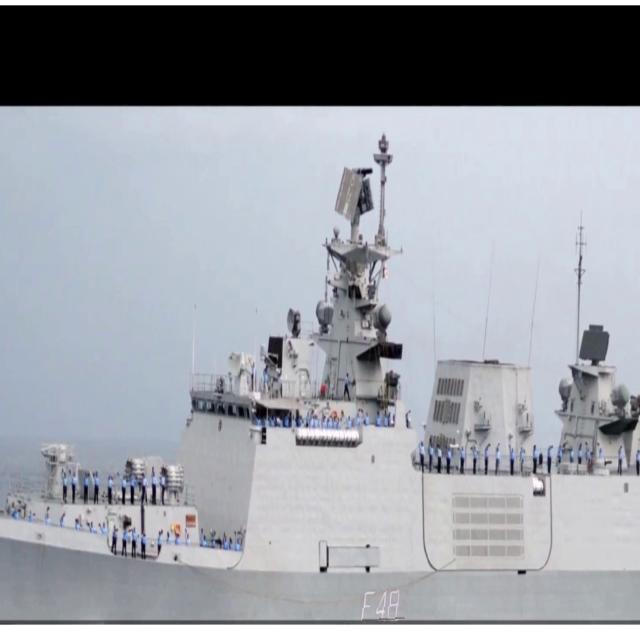OCR: (355, 586, 407, 622)
